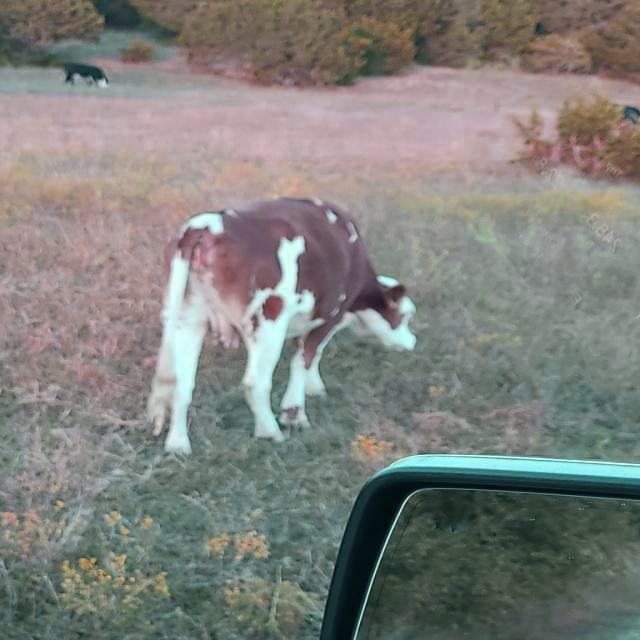cow: (148, 198, 415, 454)
